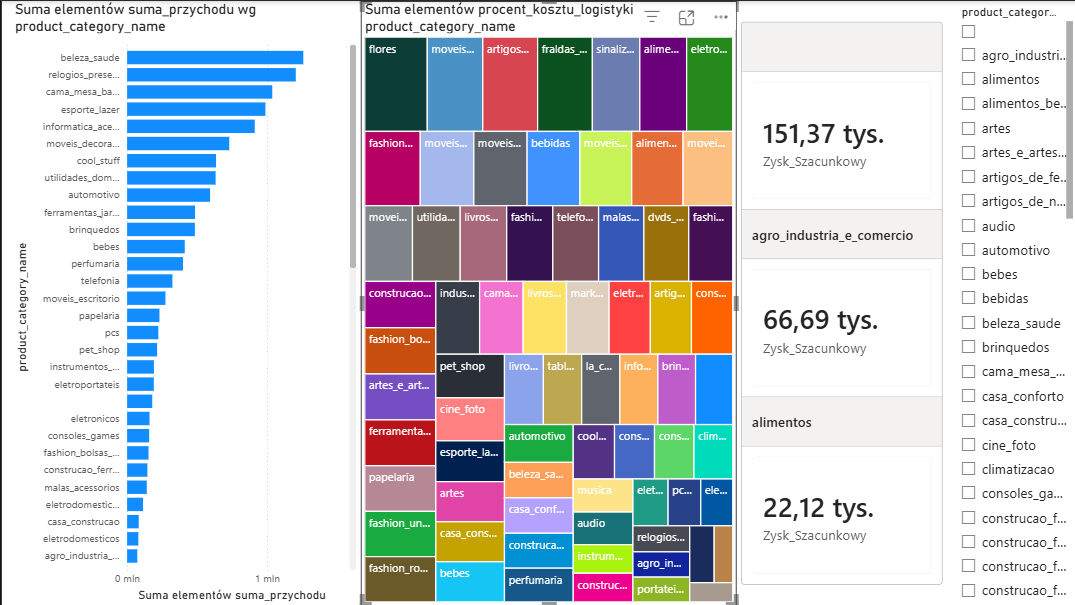

Layout of this report page (visuals, bound fields, positions):
{"tool":"powerbi","page":{"name":"Strona 1","canvas":[1280,720],"ordinal":0},"visuals":[{"type":"clusteredBarChart","fields":{"Category":["Zapytanie1.product_category_name"],"Y":["Sum(Zapytanie1.suma_przychodu)"]},"box":[10.4,0,416.8,720.5],"z":0},{"type":"treemap","fields":{"Group":["Zapytanie1.product_category_name"],"Values":["Sum(Zapytanie1.procent_kosztu_logistyki)"]},"box":[427.3,0,448.1,720.5],"z":1000},{"type":"cardVisual","fields":{"Rows":["Zapytanie1.product_category_name"],"Data":["Zapytanie1.Zysk\\_Szacunkowy"]},"box":[875.4,0,250.1,720.5],"z":2000},{"type":"slicer","fields":{"Values":["Zapytanie1.product_category_name"]},"box":[1129.9,0,150.4,720.5],"z":3000}]}

Visuals, with their boxes in screenshot pixels (x1, y1, x2, y2), scaled from the page's 1280x720 canvas onto the 1075x605 screenshot:
clusteredBarChart - Zapytanie1.product_category_name x Sum(Zapytanie1.suma_przychodu): bbox(9, 0, 359, 604)
treemap - Zapytanie1.product_category_name x Sum(Zapytanie1.procent_kosztu_logistyki): bbox(359, 0, 735, 604)
cardVisual - Zapytanie1.product_category_name x Zapytanie1.Zysk\_Szacunkowy: bbox(735, 0, 945, 604)
slicer - Zapytanie1.product_category_name: bbox(949, 0, 1074, 604)
